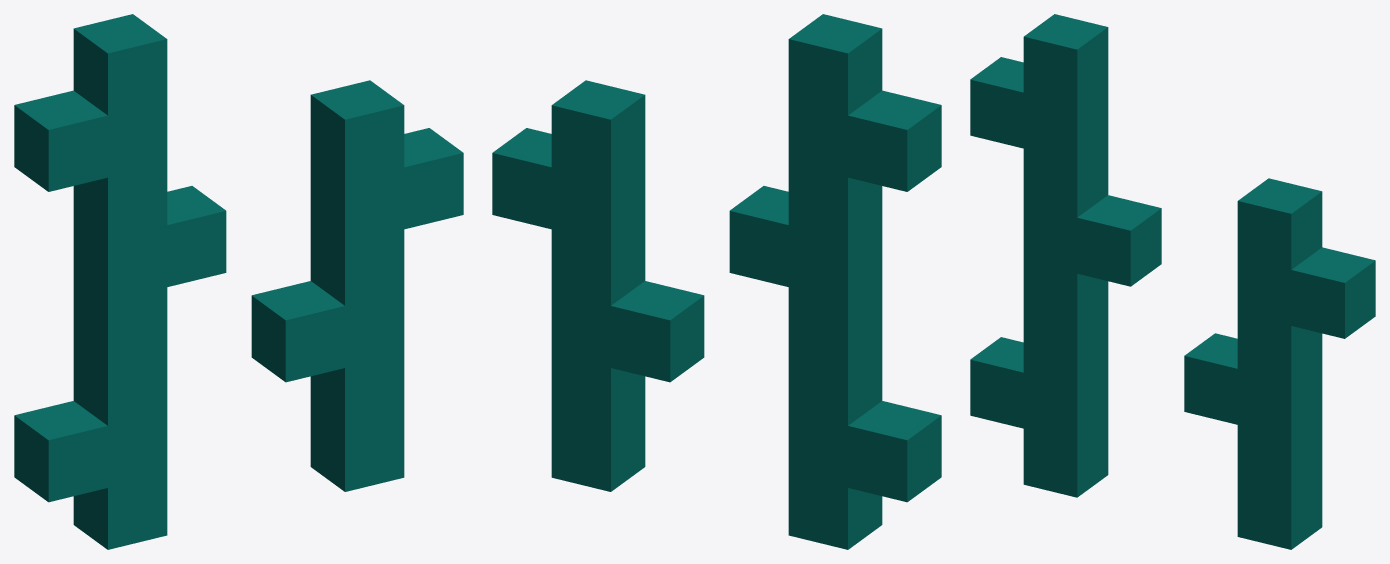
File: grass-02.obj
The picture shows the model from 3 angles, left to right: view 1: azimuth 30°, elevation 25°; view 2: azimuth 150°, elevation 25°; view 3: azimuth 330°, elevation 25°; orthographic projection. The views are drawn at different scales.
Bounding box in the file's own units: 7 × 8 × 1.
1 material, 1 textured.
